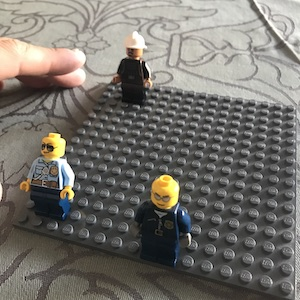Lego: (134, 173, 191, 263), (19, 133, 75, 220), (111, 31, 152, 103)
